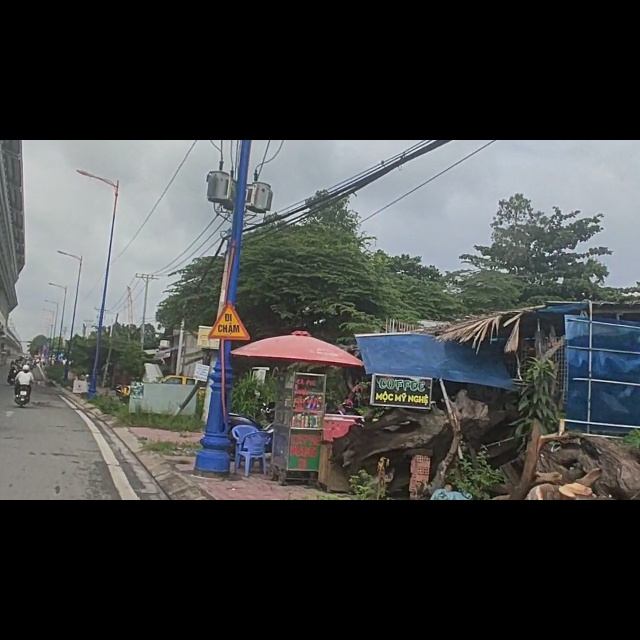bien_nguy_hiem: (208, 284, 251, 358)
